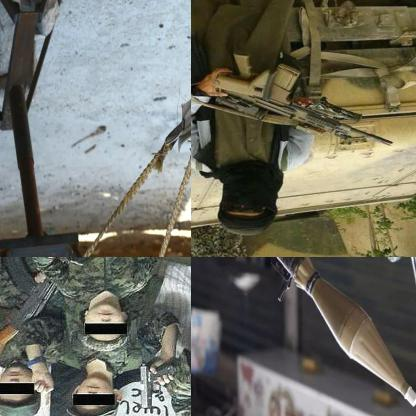pistol: (135, 358, 181, 410)
rifle: (191, 257, 415, 408), (205, 54, 405, 152), (0, 257, 65, 366)
